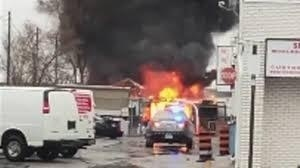fire: (139, 68, 211, 131)
